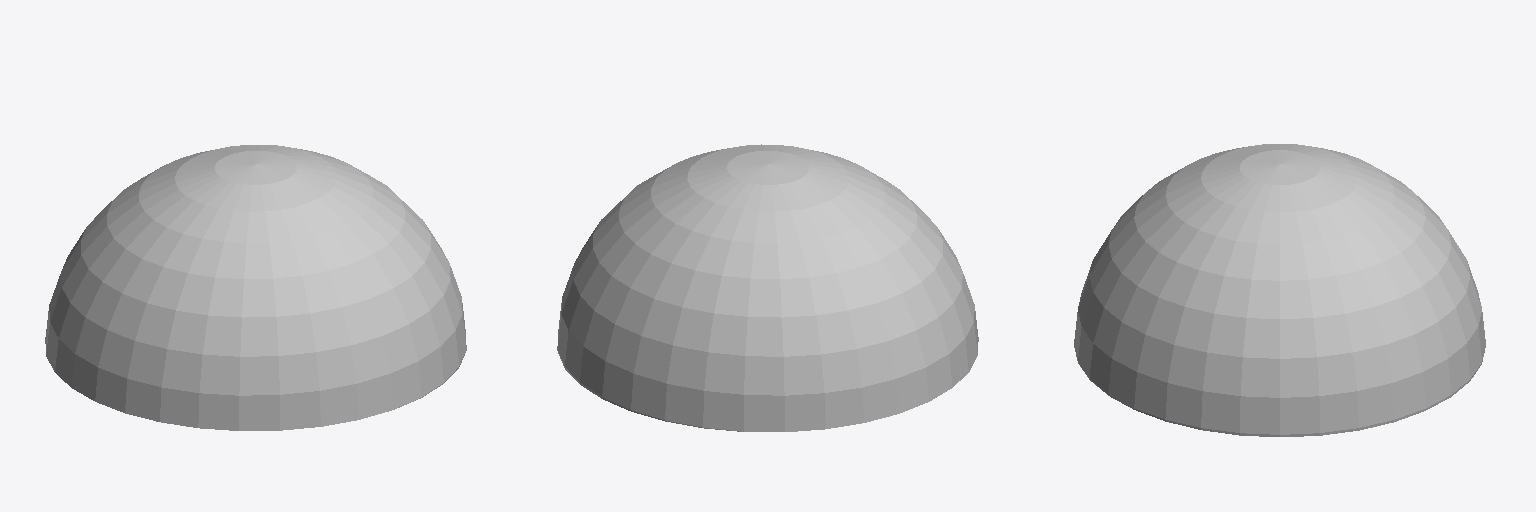
The model's file is poke_arriba.obj.
3 views of the same model, side by side, from view 1: azimuth 30°, elevation 25°; view 2: azimuth 150°, elevation 25°; view 3: azimuth 270°, elevation 25° (orthographic).
Visible parts, largest first — view 1: Sphere; view 2: Sphere; view 3: Sphere.
Part boxes in pixels (bbox=[...]): Sphere: bbox=[45, 145, 466, 430]; Sphere: bbox=[557, 144, 978, 431]; Sphere: bbox=[1074, 144, 1485, 436].
Bounding box in the file's own units: 4.07 × 1.93 × 3.94.